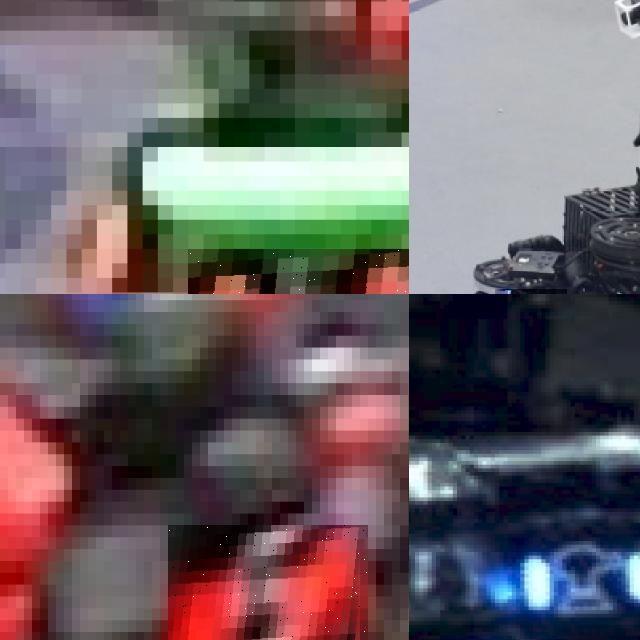Bs: (520, 545, 640, 614)
R5: (168, 525, 368, 640), (188, 249, 409, 294)
